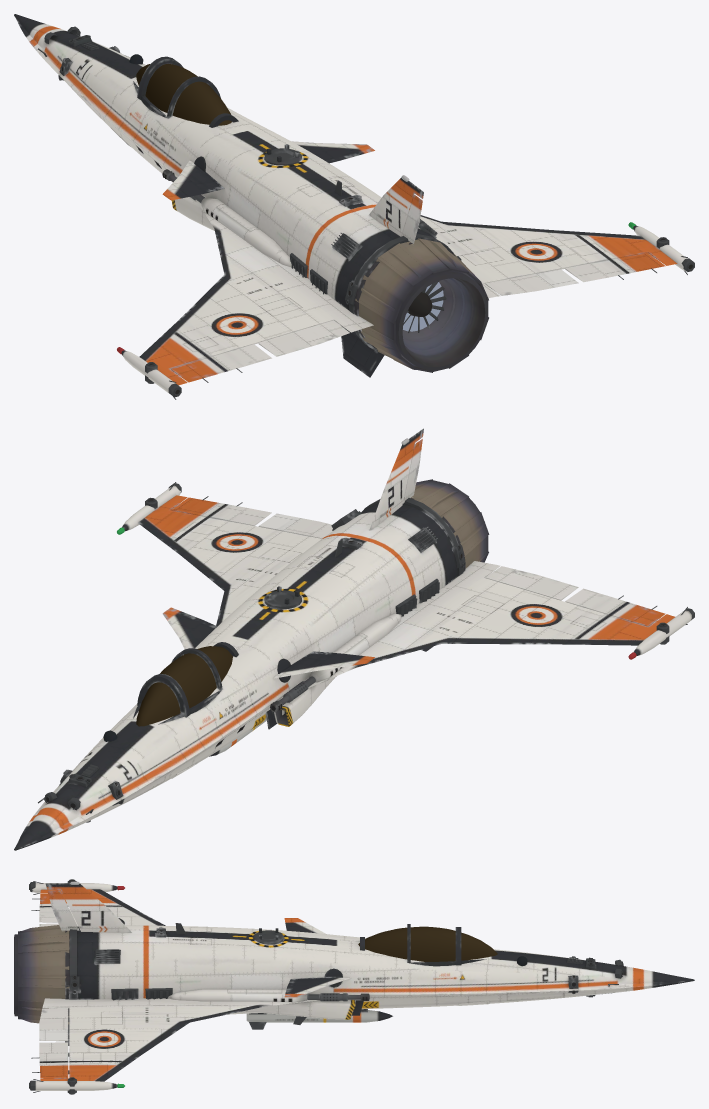
File: swift.glb
3 renders of one model, top to bottom at view 1: azimuth 30°, elevation 25°; view 2: azimuth 150°, elevation 25°; view 3: azimuth 270°, elevation 25°, orthographic. The views are drawn at different scales.
Visible parts, largest first — view 1: hull, glass, hull_1; view 2: hull, glass, hull_1; view 3: hull, glass, hull_1.
Part boxes in pixels (left/top/right/bottom): hull: left=14, top=14, right=687, bottom=399; glass: left=136, top=63, right=231, bottom=125; hull_1: left=44, top=26, right=694, bottom=397; hull: left=14, top=428, right=691, bottom=850; glass: left=136, top=646, right=232, bottom=726; hull_1: left=44, top=483, right=694, bottom=822; hull: left=14, top=881, right=694, bottom=1092; glass: left=358, top=926, right=497, bottom=961; hull_1: left=29, top=879, right=623, bottom=1094.
Bounding box in the file's own units: 7 × 2.39 × 9.94.
Materials: 2 (1 with a texture image).
